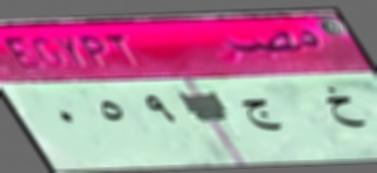0: (50, 102, 84, 135)
5: (94, 92, 130, 132)
9: (142, 89, 179, 132)
jeem: (243, 94, 281, 142)
khaa: (322, 82, 367, 136)
